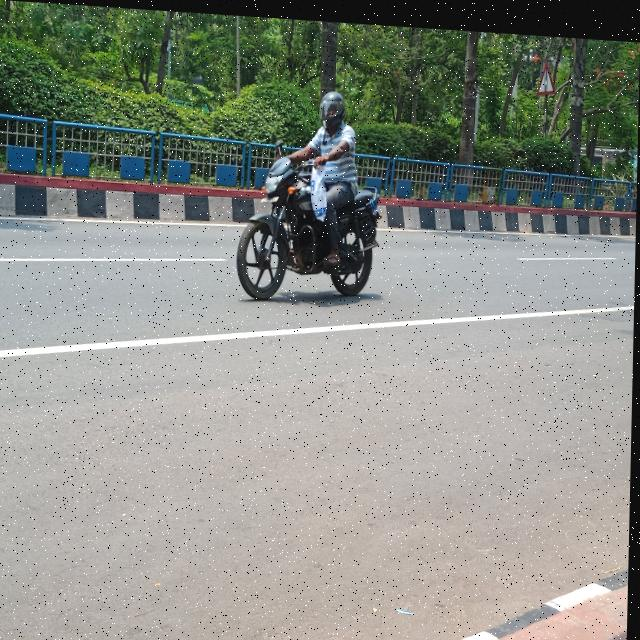bike: (227, 144, 392, 308)
